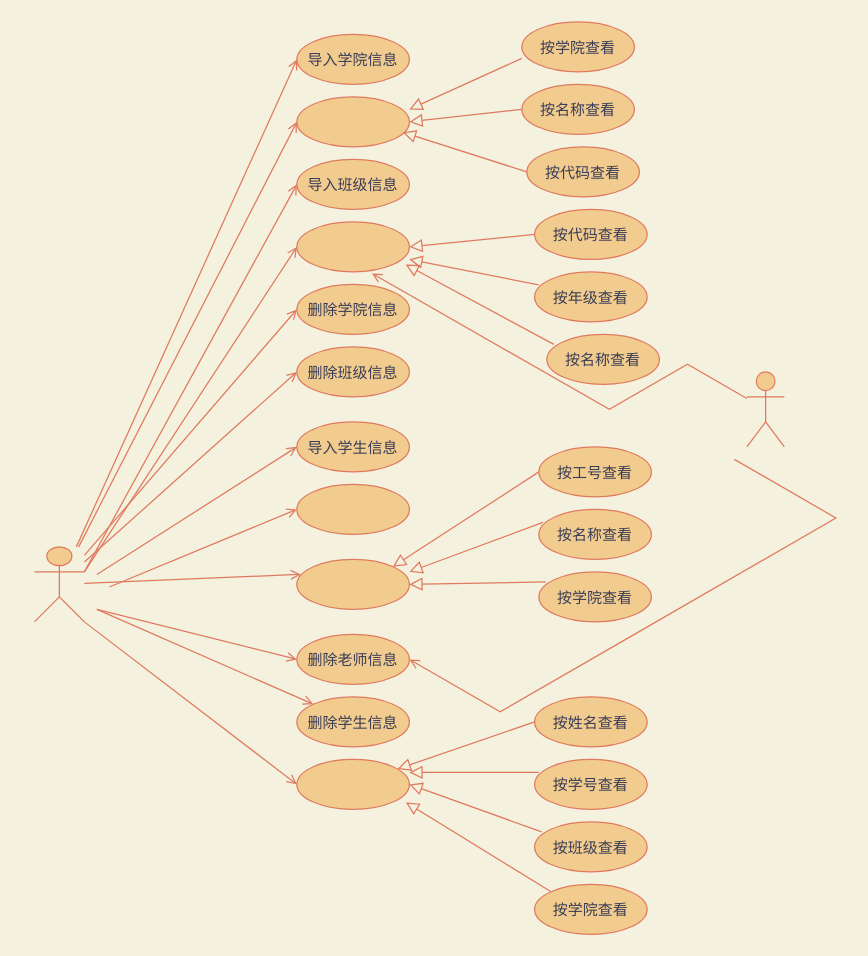
Image size: 868x956. Some labels were removed from this diagram. Each missing label, with the centre of its shape:
"体育老师" belongs at pixel 765 409.
"导入老师信息" belongs at pixel 352 508.
"查看学生信息" belongs at pixel 352 783.
"查看学院信息" belongs at pixel 352 121.
"查看班级信息" belongs at pixel 352 246.
"查看老师信息" belongs at pixel 352 583.
"系统管理员" belongs at pixel 58 584.
